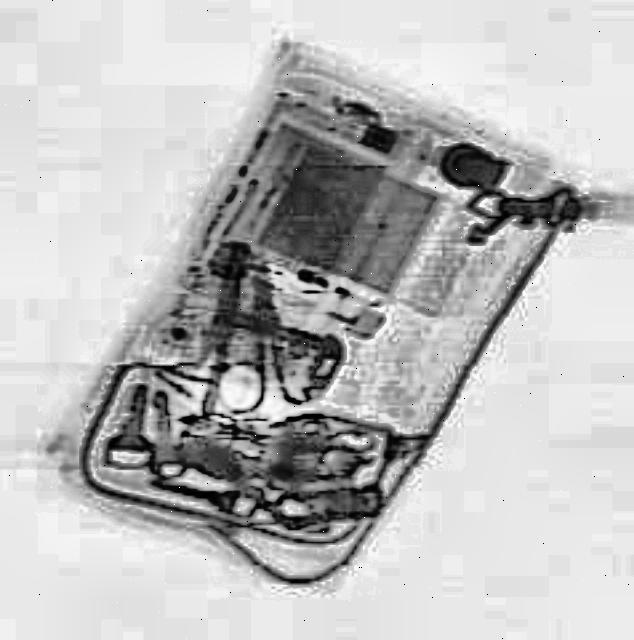Scissors: (208, 266, 334, 420)
